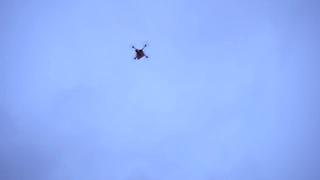UAV: (132, 45, 148, 60)
